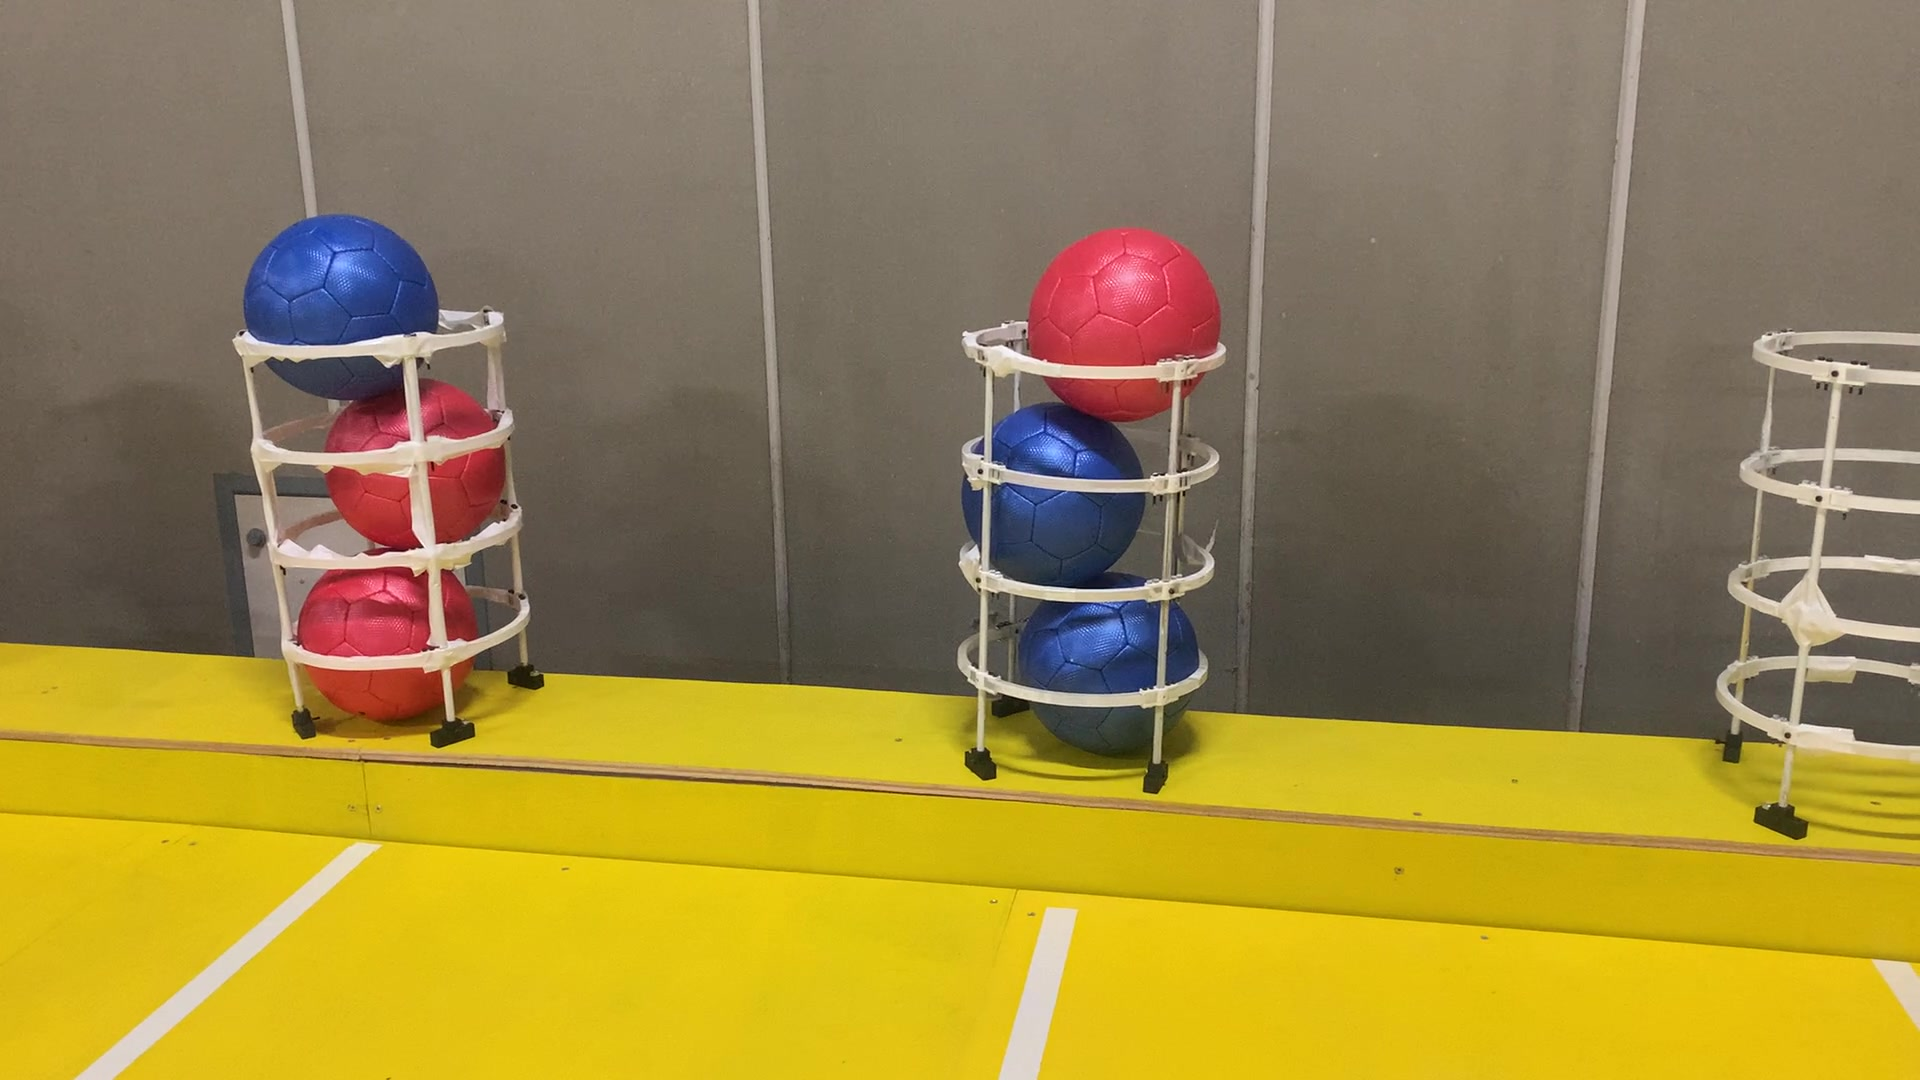blue: (239, 216, 443, 407), (1013, 562, 1201, 762), (960, 392, 1142, 599)
red: (1026, 225, 1224, 426), (289, 546, 480, 728), (327, 377, 517, 553)
